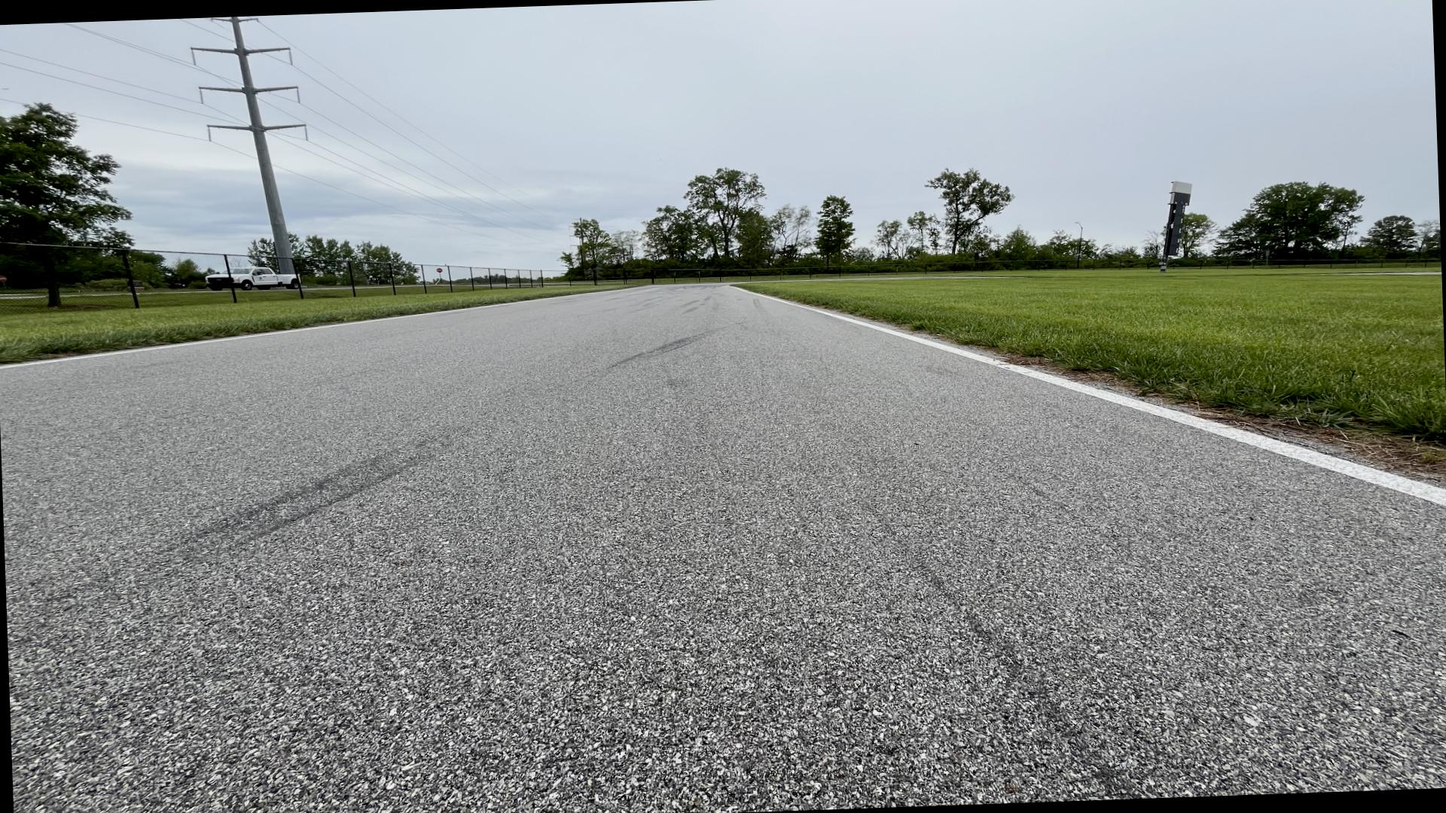white-line: (728, 287, 1445, 507), (0, 289, 624, 369)
